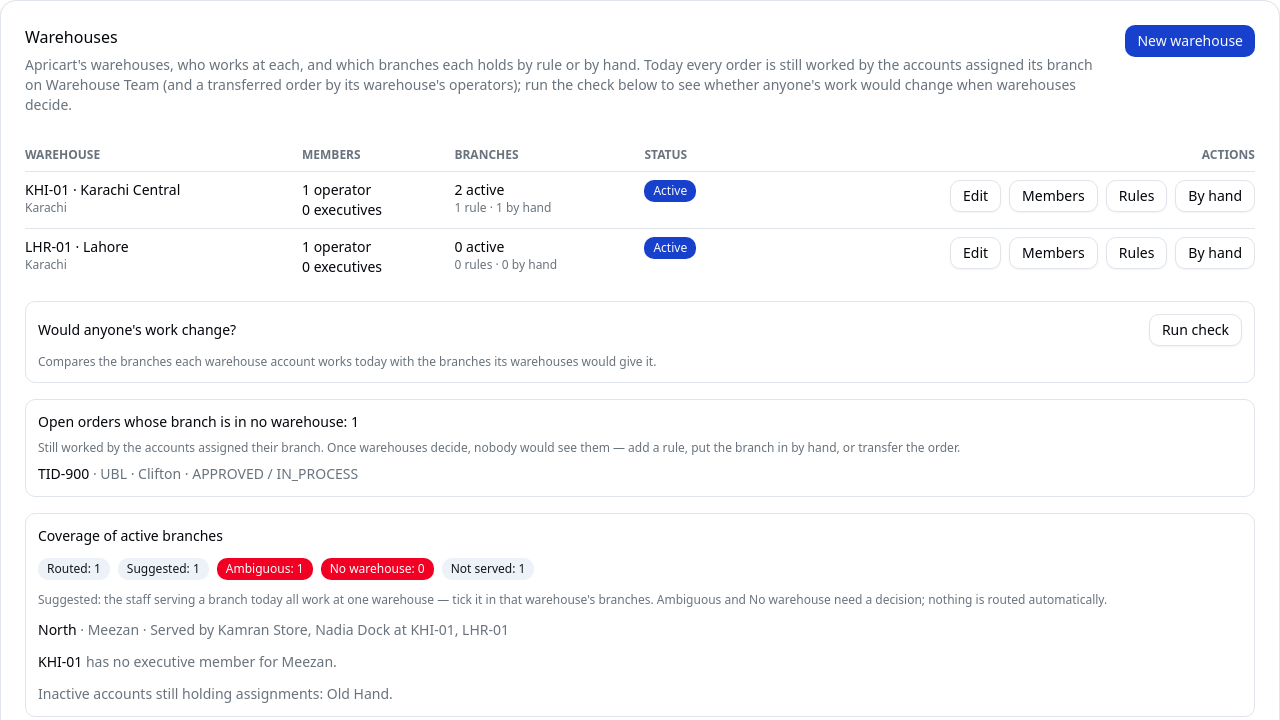
Scenario: Apricart warehouses › shows the server's refusal instead of claiming success
Click the button "New warehouse" at (1190, 41), box [1126,25,1255,57]
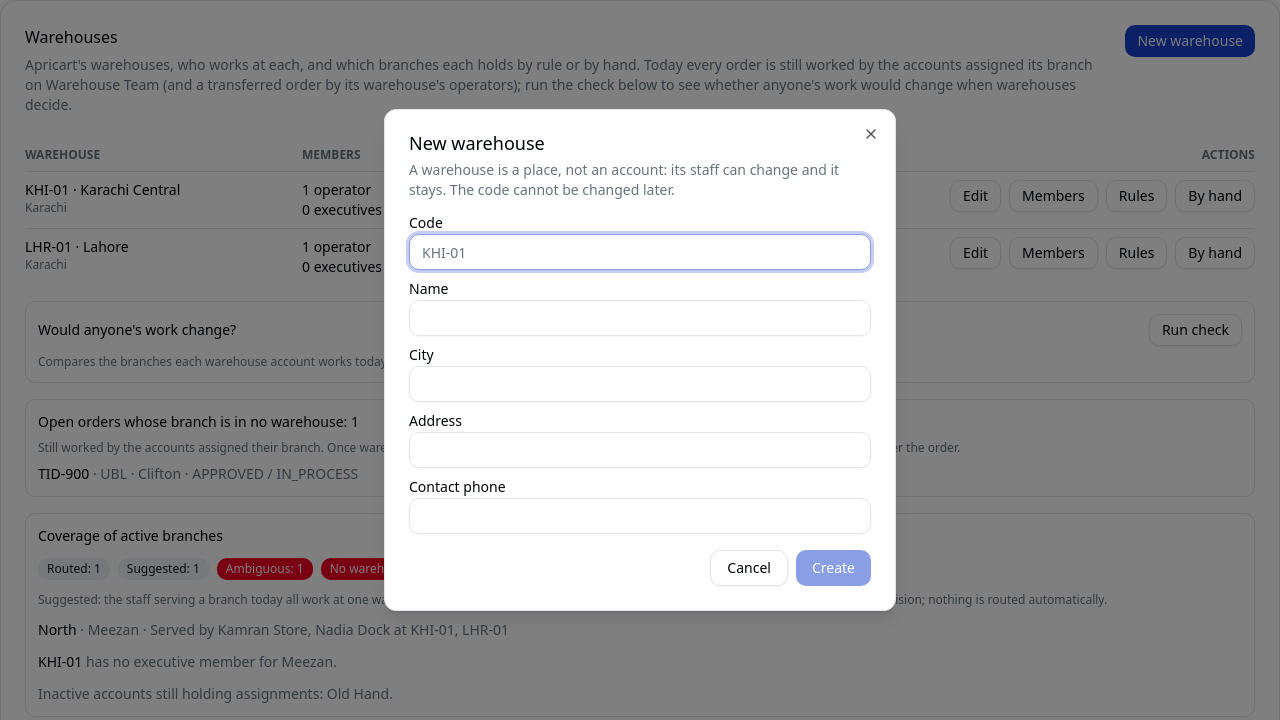
Type "khi-01" into the field labelled "Code" at (640, 252), box [409,234,871,270]
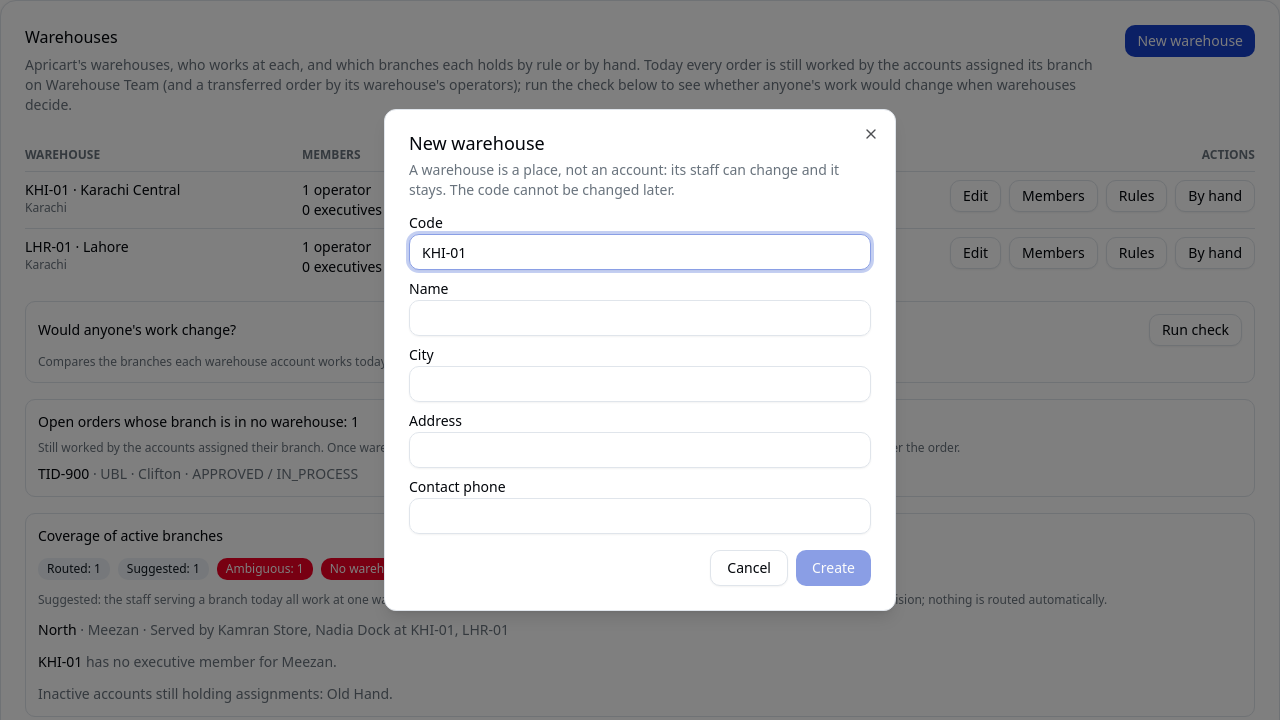
Type "Karachi again" into the field labelled "Name" at (640, 318), box [409,300,871,336]
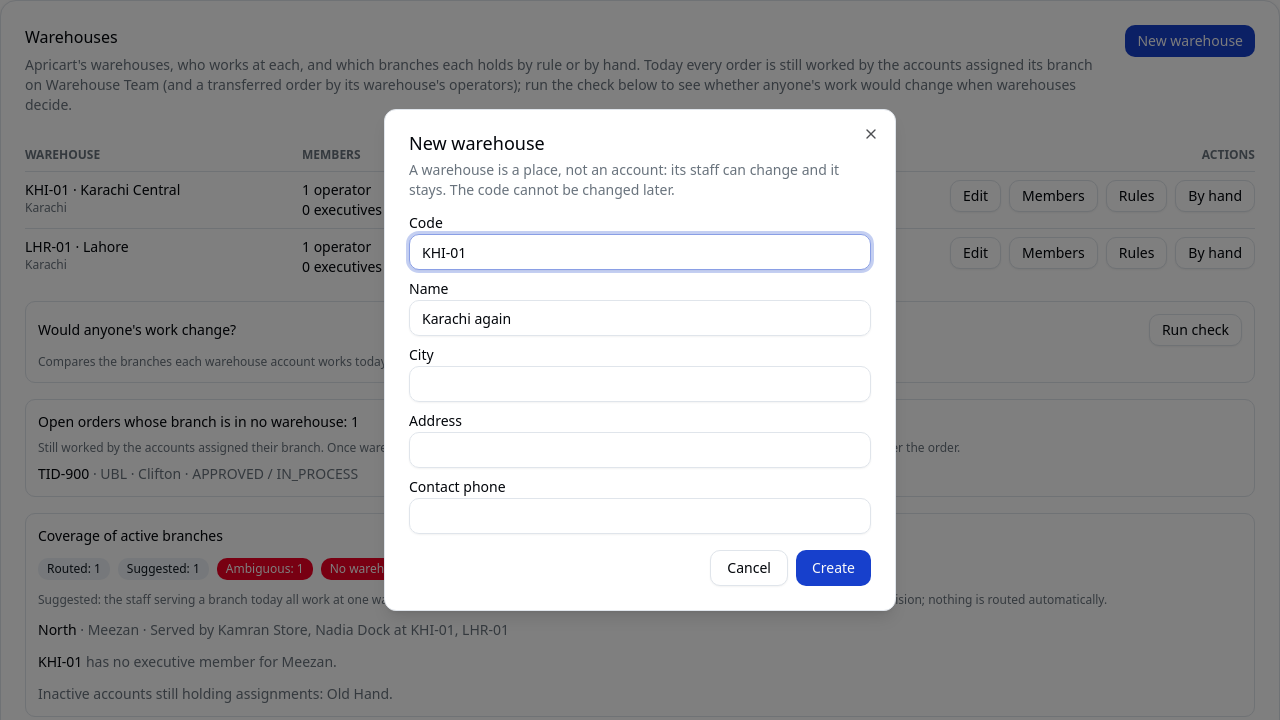
Click the button "Create" at (833, 568), box [796,550,871,586]
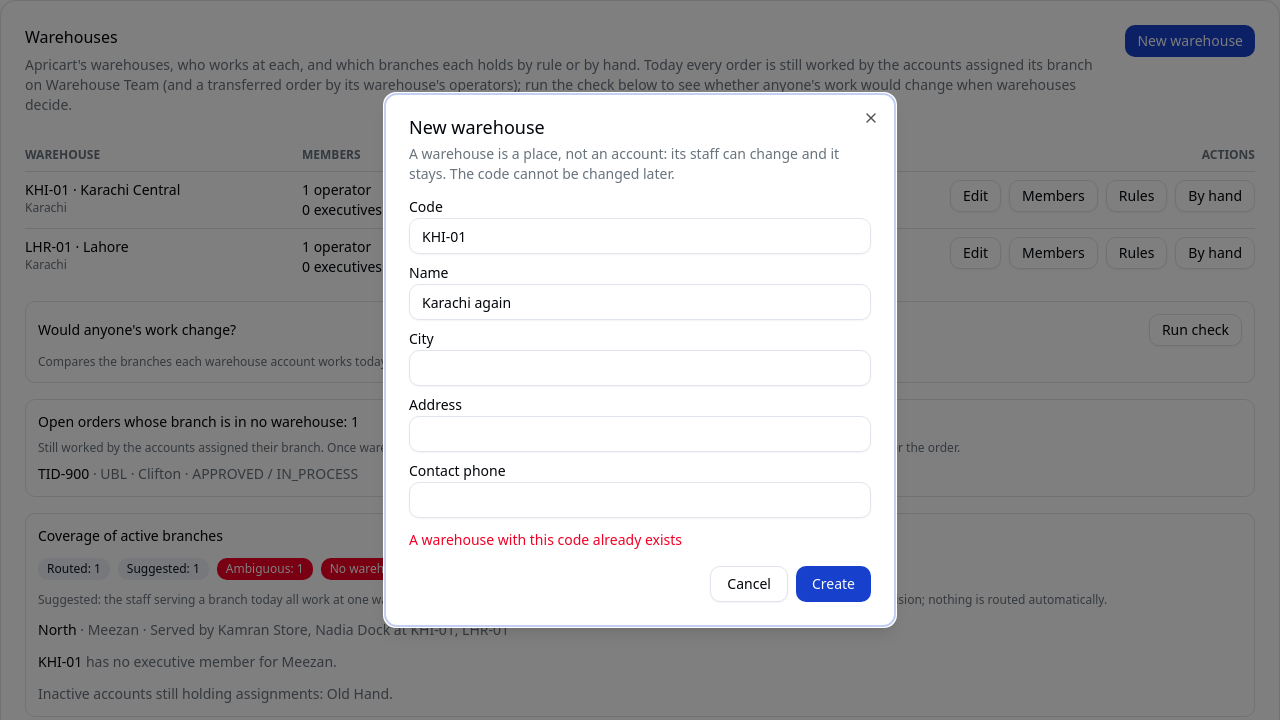
Now the message reads "A warehouse with this code already exists", box [409,530,682,549]
